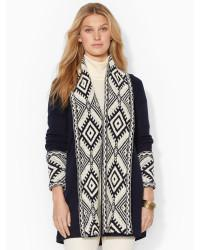C_cardigan sweater: (42, 55, 168, 239)
